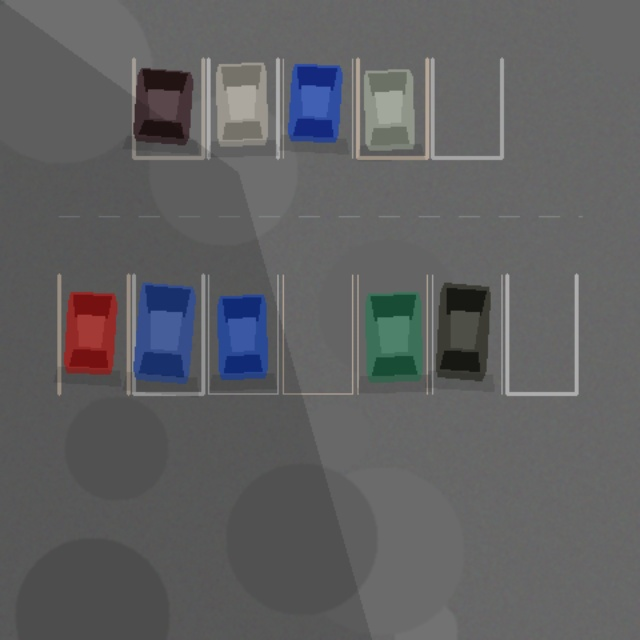space-empty: (283, 275, 352, 393), (507, 275, 576, 393), (432, 59, 501, 157)
space-occupied: (133, 275, 203, 393), (357, 275, 427, 393), (59, 275, 128, 393), (208, 275, 277, 393), (432, 275, 501, 393), (133, 59, 203, 157), (357, 59, 427, 157), (208, 59, 277, 157), (283, 59, 352, 157)
